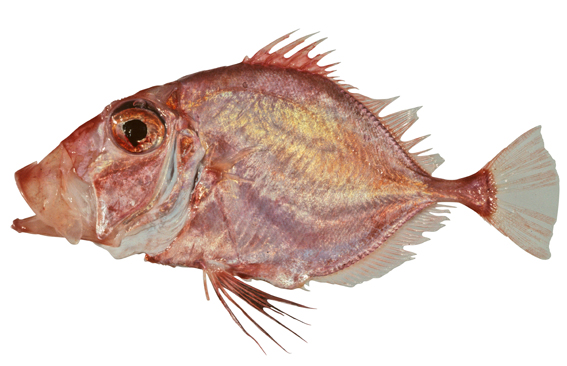fish: (11, 28, 560, 357)
